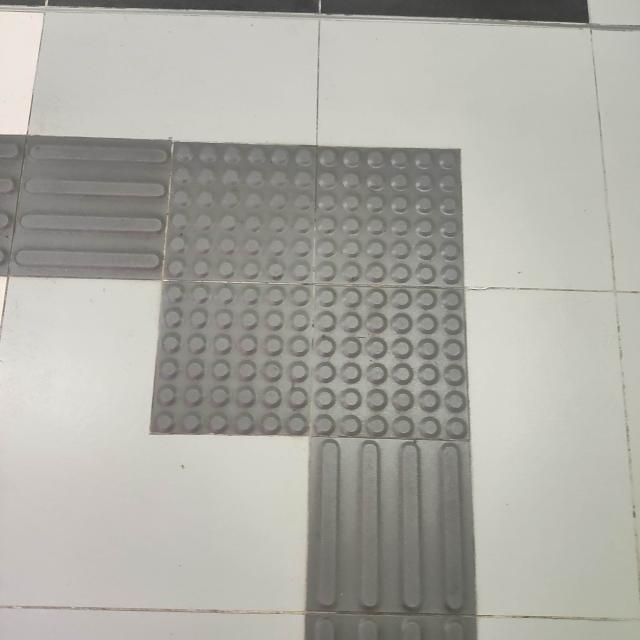kiri: (0, 106, 561, 556)
